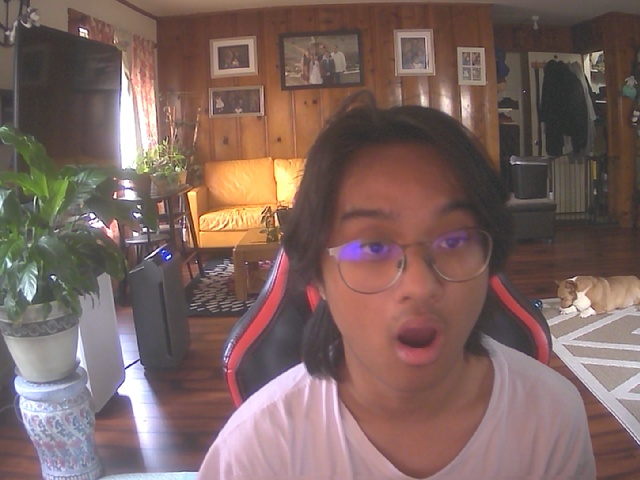fear: (309, 117, 503, 394)
